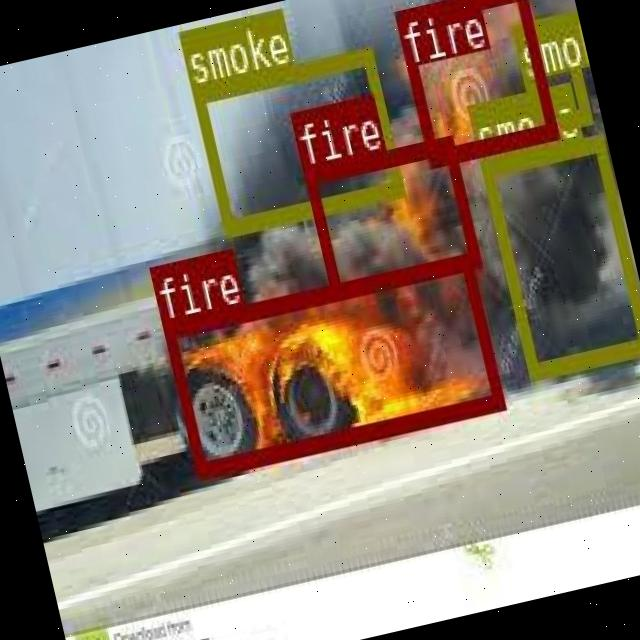fire: (162, 252, 502, 478), (301, 133, 479, 297), (393, 0, 556, 162)
smoke: (190, 44, 403, 232), (478, 131, 640, 376), (510, 12, 590, 134)
